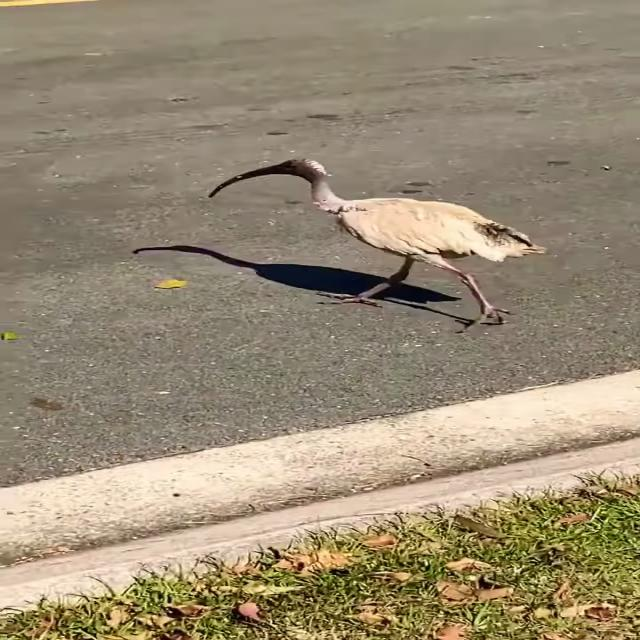Birds-Ibis: (202, 153, 556, 336)
